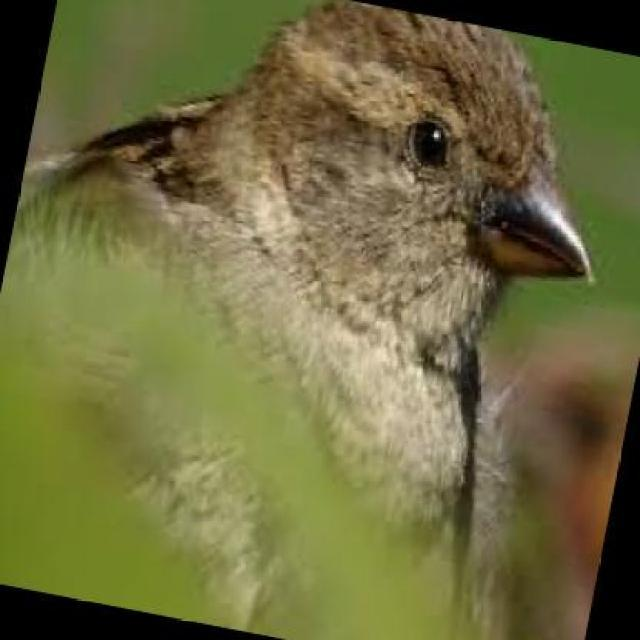Bird: (37, 0, 612, 628)
